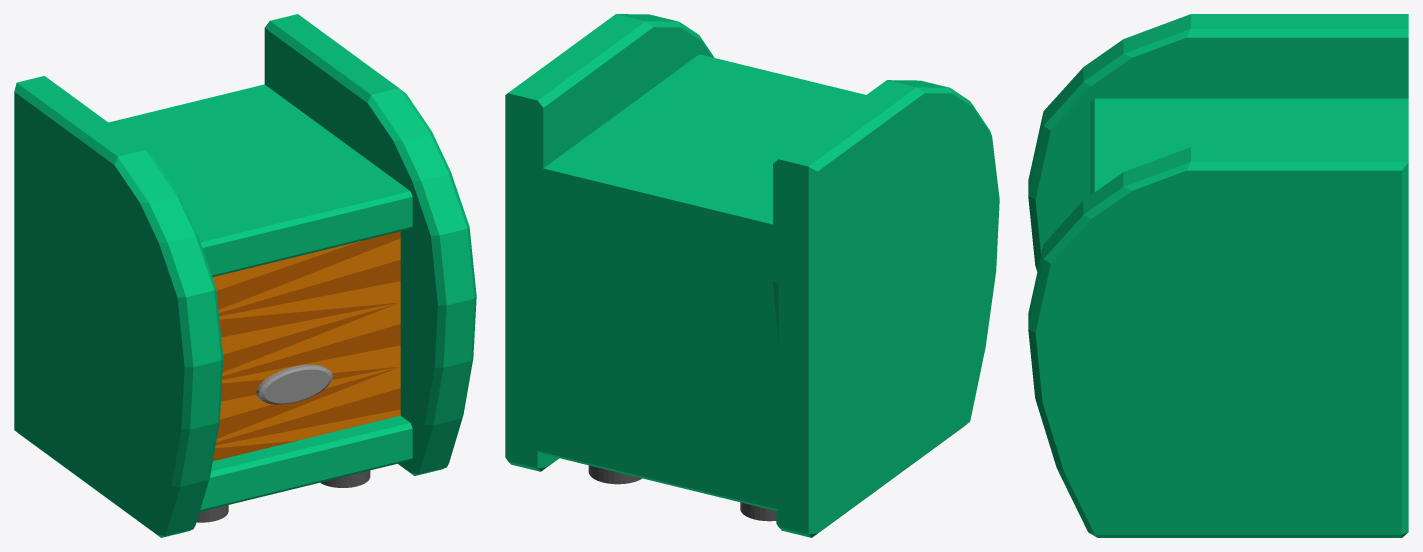
The model's file is krovatTymba.fbx.
The picture shows the model from 3 angles, left to right: view 1: azimuth 30°, elevation 25°; view 2: azimuth 150°, elevation 25°; view 3: azimuth 270°, elevation 25°; orthographic projection. The views are drawn at different scales.
Visible parts, largest first — view 1: Cube.002; view 2: Cube.002; view 3: Cube.002.
Part boxes in pixels (bbox=[...]): Cube.002: bbox=[14, 14, 476, 537]; Cube.002: bbox=[505, 14, 999, 537]; Cube.002: bbox=[1028, 14, 1408, 537].
Size of the model in its own units: 272 by 322 by 285.
